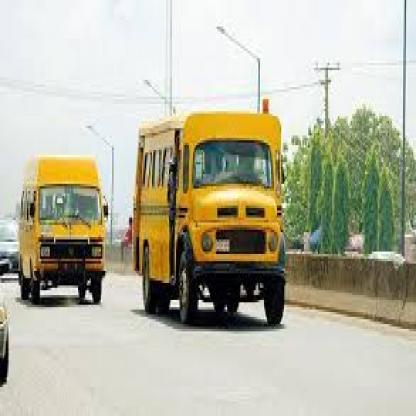car: (126, 116, 320, 350), (17, 144, 117, 324)
